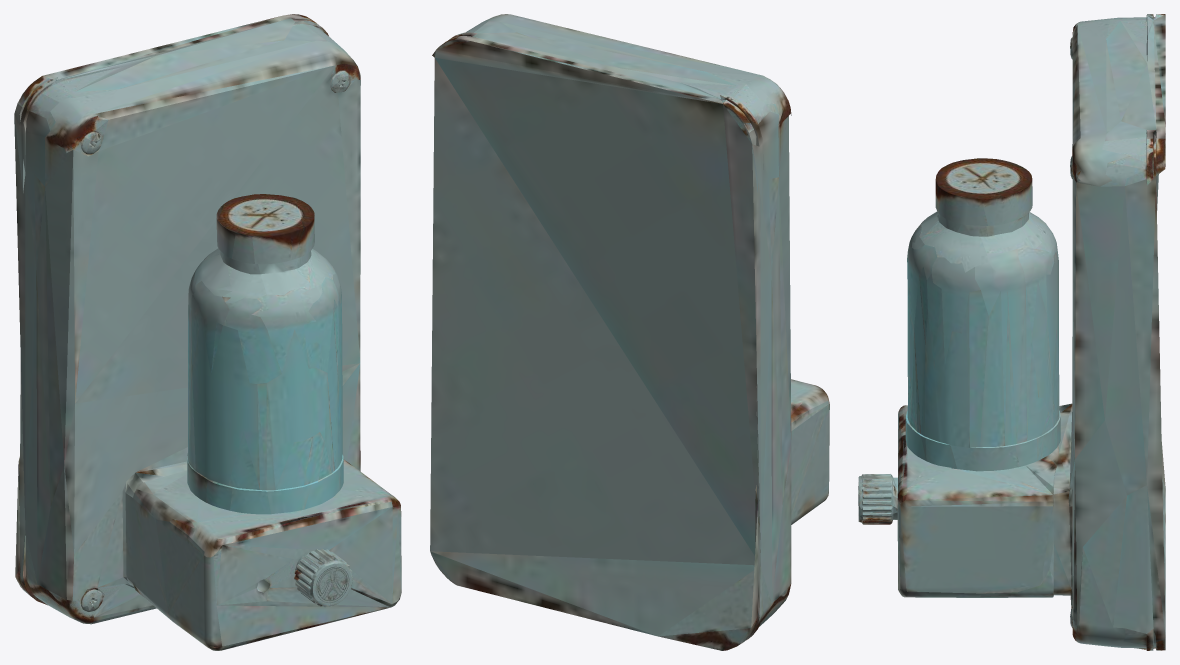
The model's file is suero-segundo-aliento.glb.
The picture shows the model from 3 angles, left to right: view 1: azimuth 30°, elevation 25°; view 2: azimuth 150°, elevation 25°; view 3: azimuth 270°, elevation 25°; orthographic projection. The views are drawn at different scales.
Size of the model in its own units: 1.18 by 1.9 by 1.02.
1 material, 1 textured.
